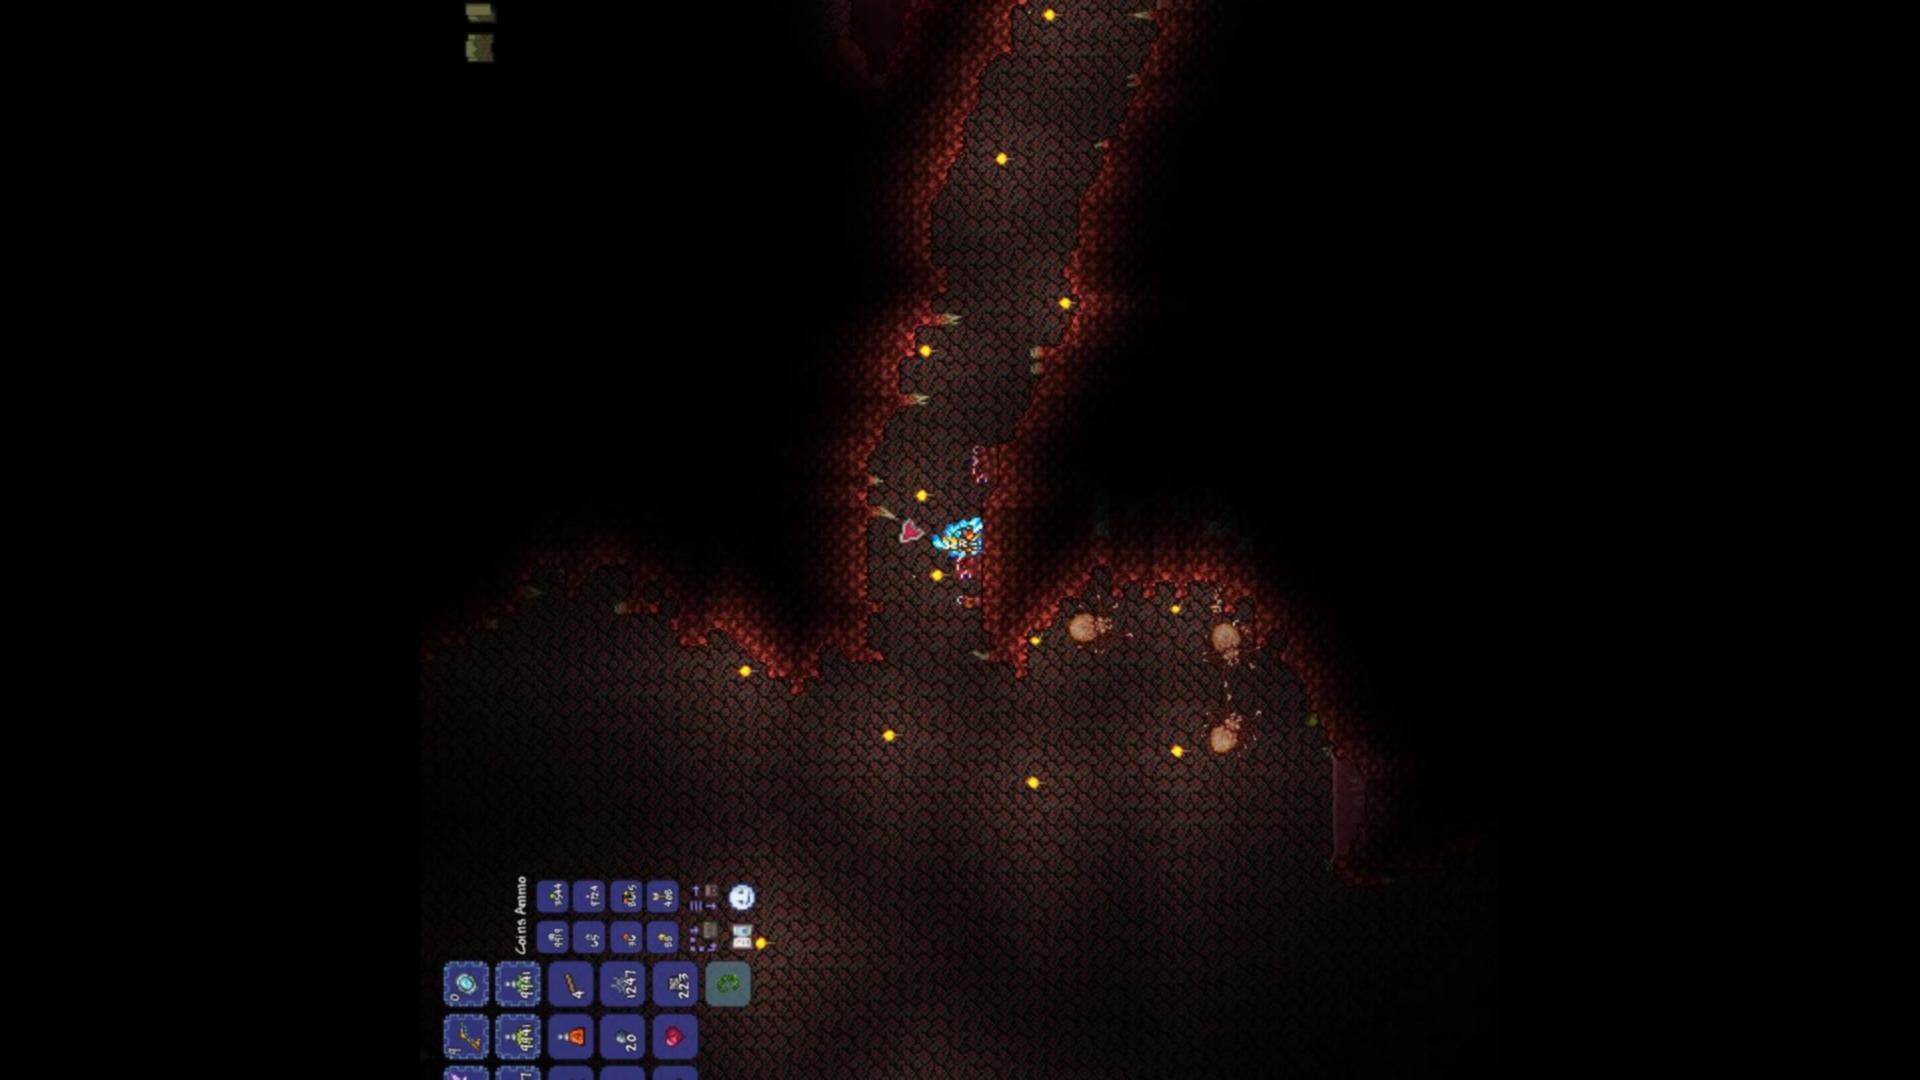cobwebI: (608, 968, 637, 997)
lifeC: (658, 1022, 687, 1050)
mirror: (450, 969, 481, 996)
